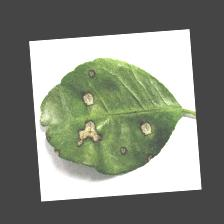canker: (37, 66, 159, 165)
